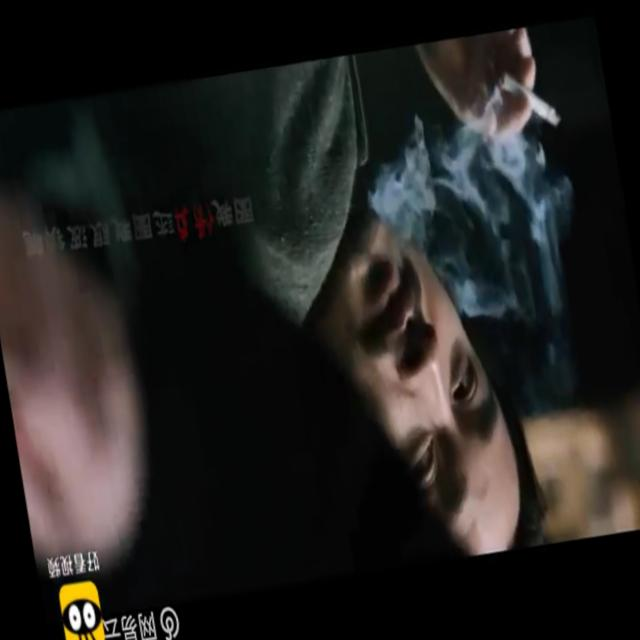cigarette: (530, 82, 569, 136)
